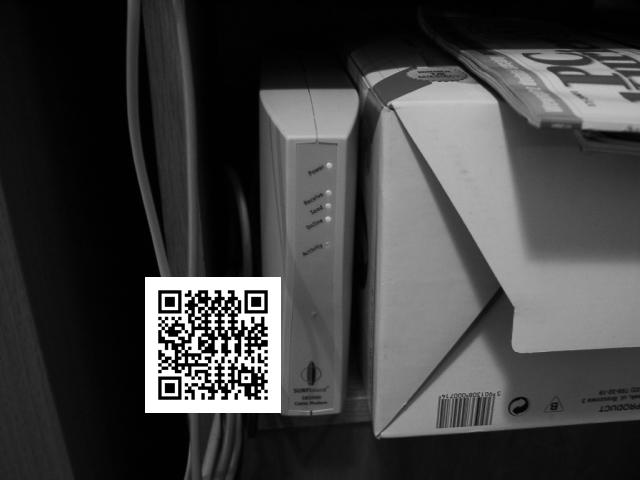qr_code: (145, 276, 280, 412)
